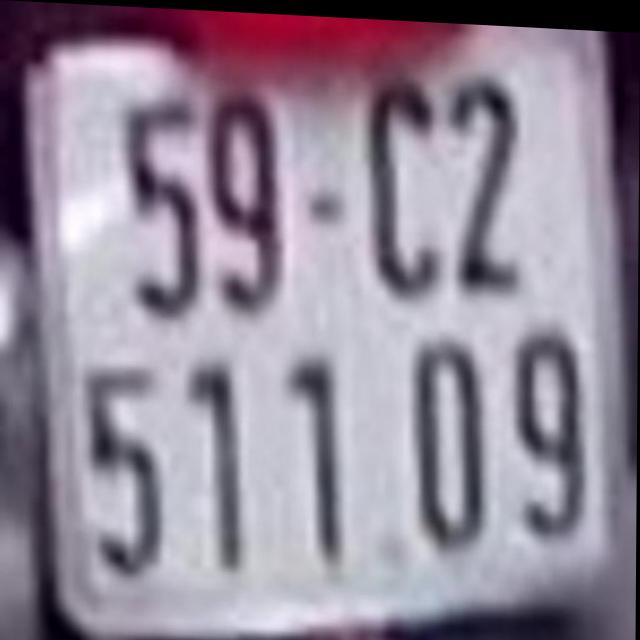0: (407, 326, 492, 553)
1: (283, 347, 363, 570), (182, 354, 248, 565)
2: (445, 60, 529, 295)
5: (71, 352, 166, 579), (122, 96, 199, 327)
9: (202, 87, 293, 324), (509, 306, 591, 541)
C: (366, 66, 444, 289)
